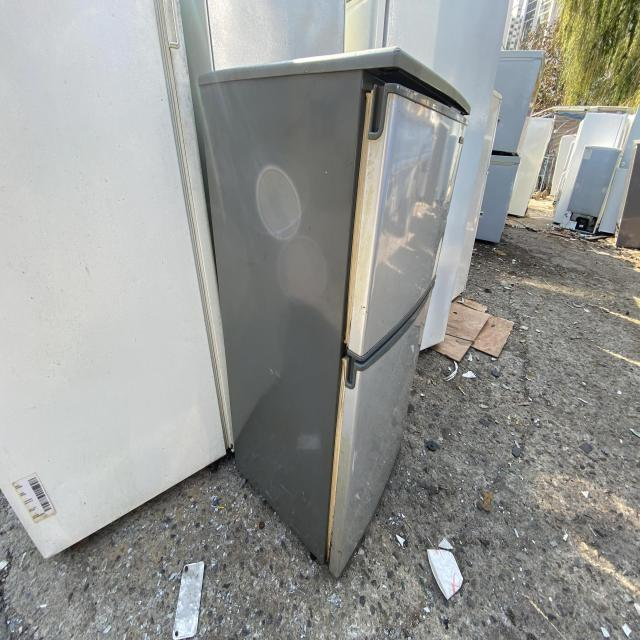refrigerator: (191, 46, 477, 582)
